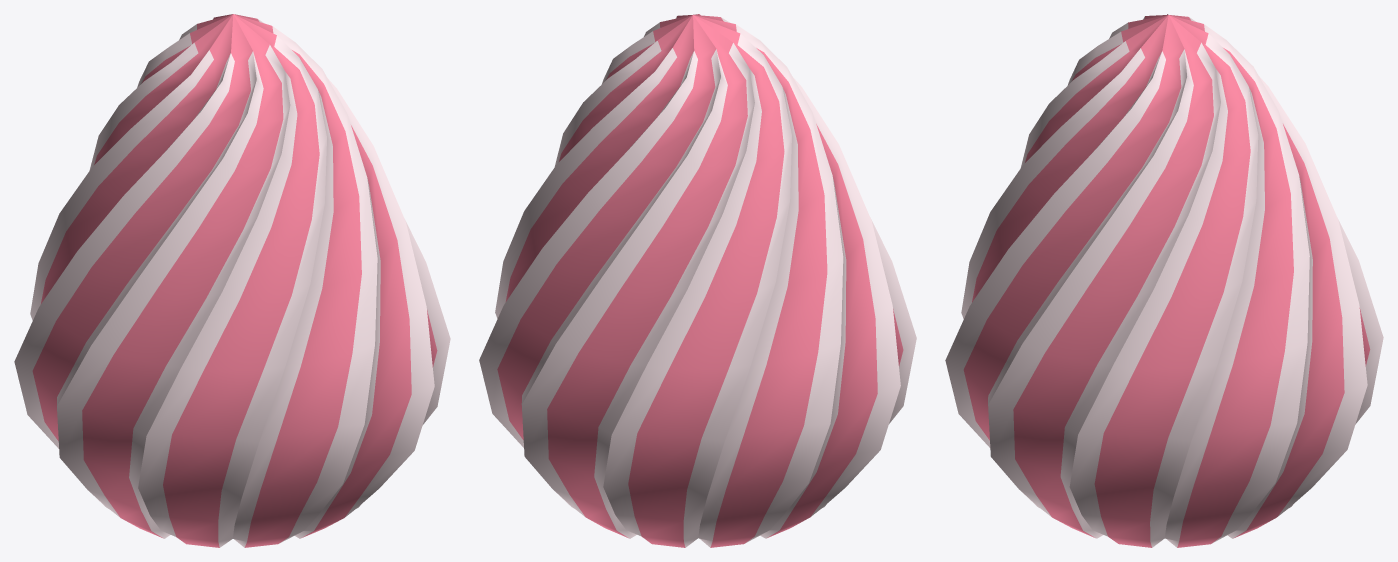
The model's file is Ice Cream Spiral A White Pink.fbx.
The picture shows the model from 3 angles, left to right: view 1: azimuth 30°, elevation 25°; view 2: azimuth 150°, elevation 25°; view 3: azimuth 270°, elevation 25°; orthographic projection.
Parts seen in each view (by area): view 1: Ice Cream Spiral A White Pink; view 2: Ice Cream Spiral A White Pink; view 3: Ice Cream Spiral A White Pink.
Part boxes in pixels (x1=…): Ice Cream Spiral A White Pink: x1=14, y1=14, x2=450, y2=547; Ice Cream Spiral A White Pink: x1=479, y1=14, x2=916, y2=547; Ice Cream Spiral A White Pink: x1=945, y1=14, x2=1383, y2=547.
Size of the model in its own units: 0.4046 by 0.4954 by 0.4046.
